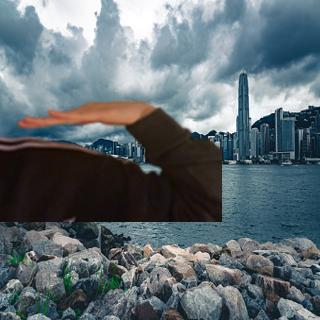Wait: (11, 94, 156, 134)
